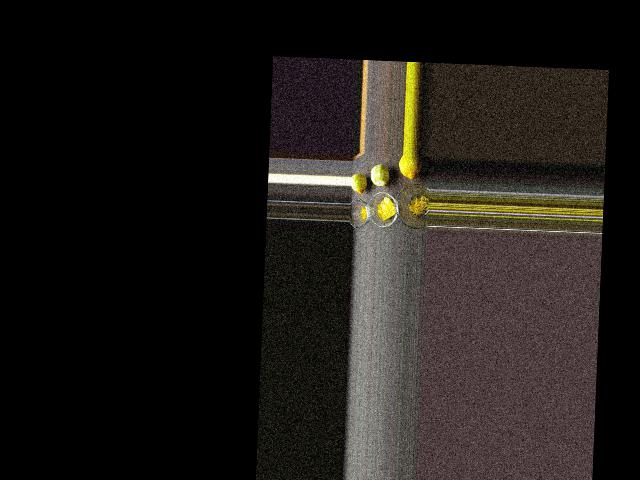lemon: (398, 156, 420, 183)
